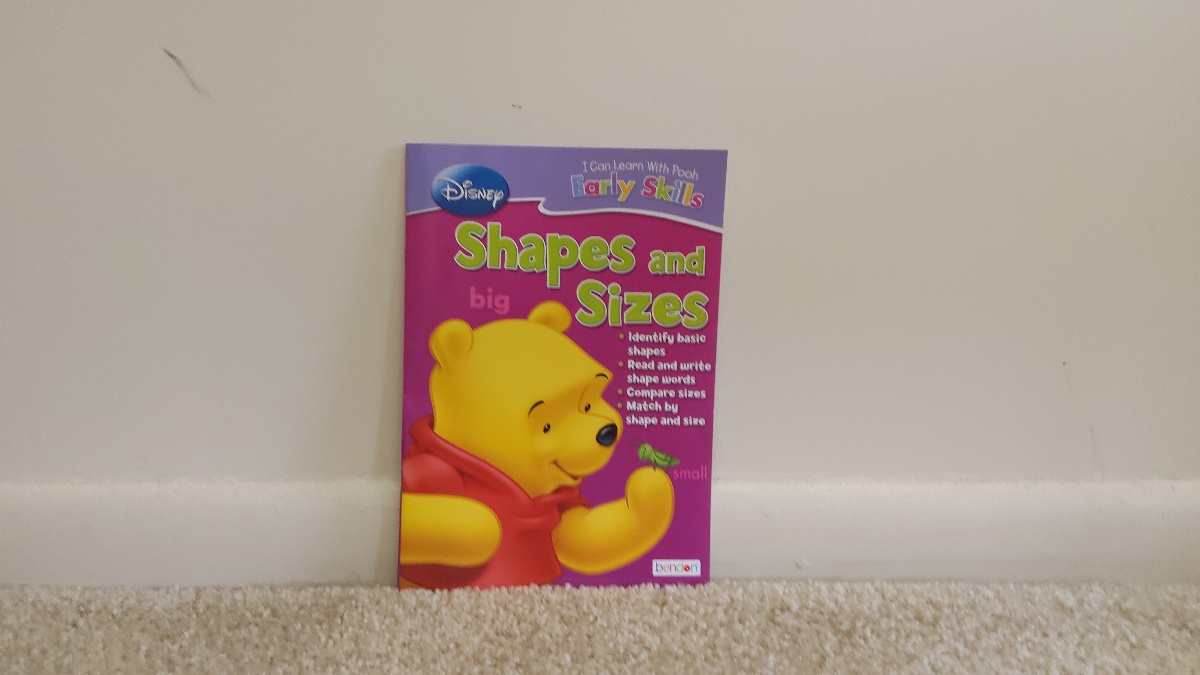book: (407, 145, 713, 586)
